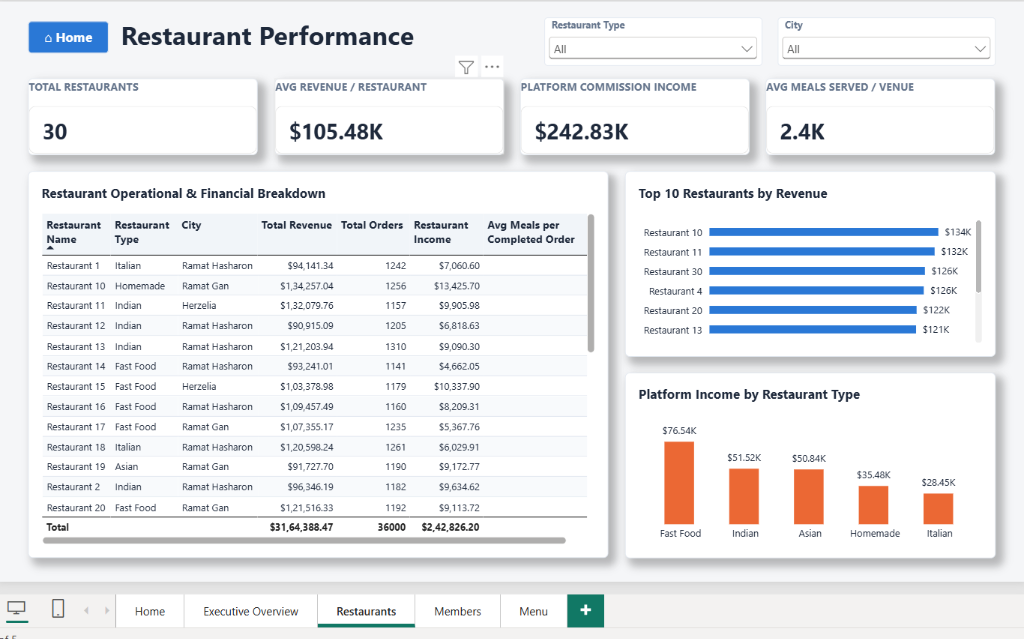

The page's visual inventory and layout, read from the dashboard file:
{"tool":"powerbi","page":{"name":"Restaurants","canvas":[1280,720],"ordinal":2},"visuals":[{"type":"slicer","fields":{"Values":["restaurant_types.RestaurantType"]},"box":[680,20,270,60],"z":0},{"type":"actionButton","box":[40,25,100,40],"z":1},{"type":"textbox","box":[155,20,500,50],"z":2},{"type":"cardVisual","title":"TOTAL RESTAURANTS","fields":{"Data":["KPI Measures.Total Restaurants"]},"box":[40,95,285,95],"z":3},{"type":"cardVisual","title":"AVG REVENUE / RESTAURANT","fields":{"Data":["KPI Measures.Revenue per Restaurant"]},"box":[345,95,285,95],"z":4},{"type":"cardVisual","title":"AVG MEALS SERVED / VENUE","fields":{"Data":["KPI Measures.Meals per Restaurant"]},"box":[955,95,285,95],"z":5},{"type":"cardVisual","title":"PLATFORM COMMISSION INCOME","fields":{"Data":["KPI Measures.Restaurant Income"]},"box":[650,95,285,95],"z":6},{"type":"slicer","fields":{"Values":["cities.City"]},"box":[970,20,270,60],"z":7},{"type":"tableEx","title":"Restaurant Operational & Financial Breakdown","fields":{"Values":["restaurants.RestaurantName","restaurant_types.RestaurantType","cities.City","KPI Measures.Total Revenue","KPI Measures.Total Orders","KPI Measures.Restaurant Income","Sum(restaurants.IncomePercentage)","KPI Measures.Avg Meals per Completed Order"]},"box":[40,210,720,480],"z":8},{"type":"clusteredBarChart","title":"Top 10 Restaurants by Revenue","fields":{"Category":["restaurants.RestaurantName"],"Y":["KPI Measures.Total Revenue"]},"box":[780,210,460,230],"z":9},{"type":"clusteredColumnChart","title":"Platform Income by Restaurant Type","fields":{"Category":["restaurant_types.RestaurantType"],"Y":["KPI Measures.Restaurant Income"]},"box":[780,460,460,230],"z":10}]}

Visuals, with their boxes on the page's 1280x720 design canvas (x1, y1, x2, y2). These are canvas units, not pixel positions in the 1024x639 screenshot, which may show the page scaled, cropped or inside an application window:
slicer - restaurant_types.RestaurantType: pyautogui.locateOnScreen(680, 20, 950, 80)
actionButton: pyautogui.locateOnScreen(40, 25, 140, 65)
textbox: pyautogui.locateOnScreen(155, 20, 655, 70)
"TOTAL RESTAURANTS" cardVisual: pyautogui.locateOnScreen(40, 95, 325, 190)
"AVG REVENUE / RESTAURANT" cardVisual: pyautogui.locateOnScreen(345, 95, 630, 190)
"AVG MEALS SERVED / VENUE" cardVisual: pyautogui.locateOnScreen(955, 95, 1240, 190)
"PLATFORM COMMISSION INCOME" cardVisual: pyautogui.locateOnScreen(650, 95, 935, 190)
slicer - cities.City: pyautogui.locateOnScreen(970, 20, 1240, 80)
"Restaurant Operational & Financial Breakdown" tableEx: pyautogui.locateOnScreen(40, 210, 760, 690)
"Top 10 Restaurants by Revenue" clusteredBarChart: pyautogui.locateOnScreen(780, 210, 1240, 440)
"Platform Income by Restaurant Type" clusteredColumnChart: pyautogui.locateOnScreen(780, 460, 1240, 690)
